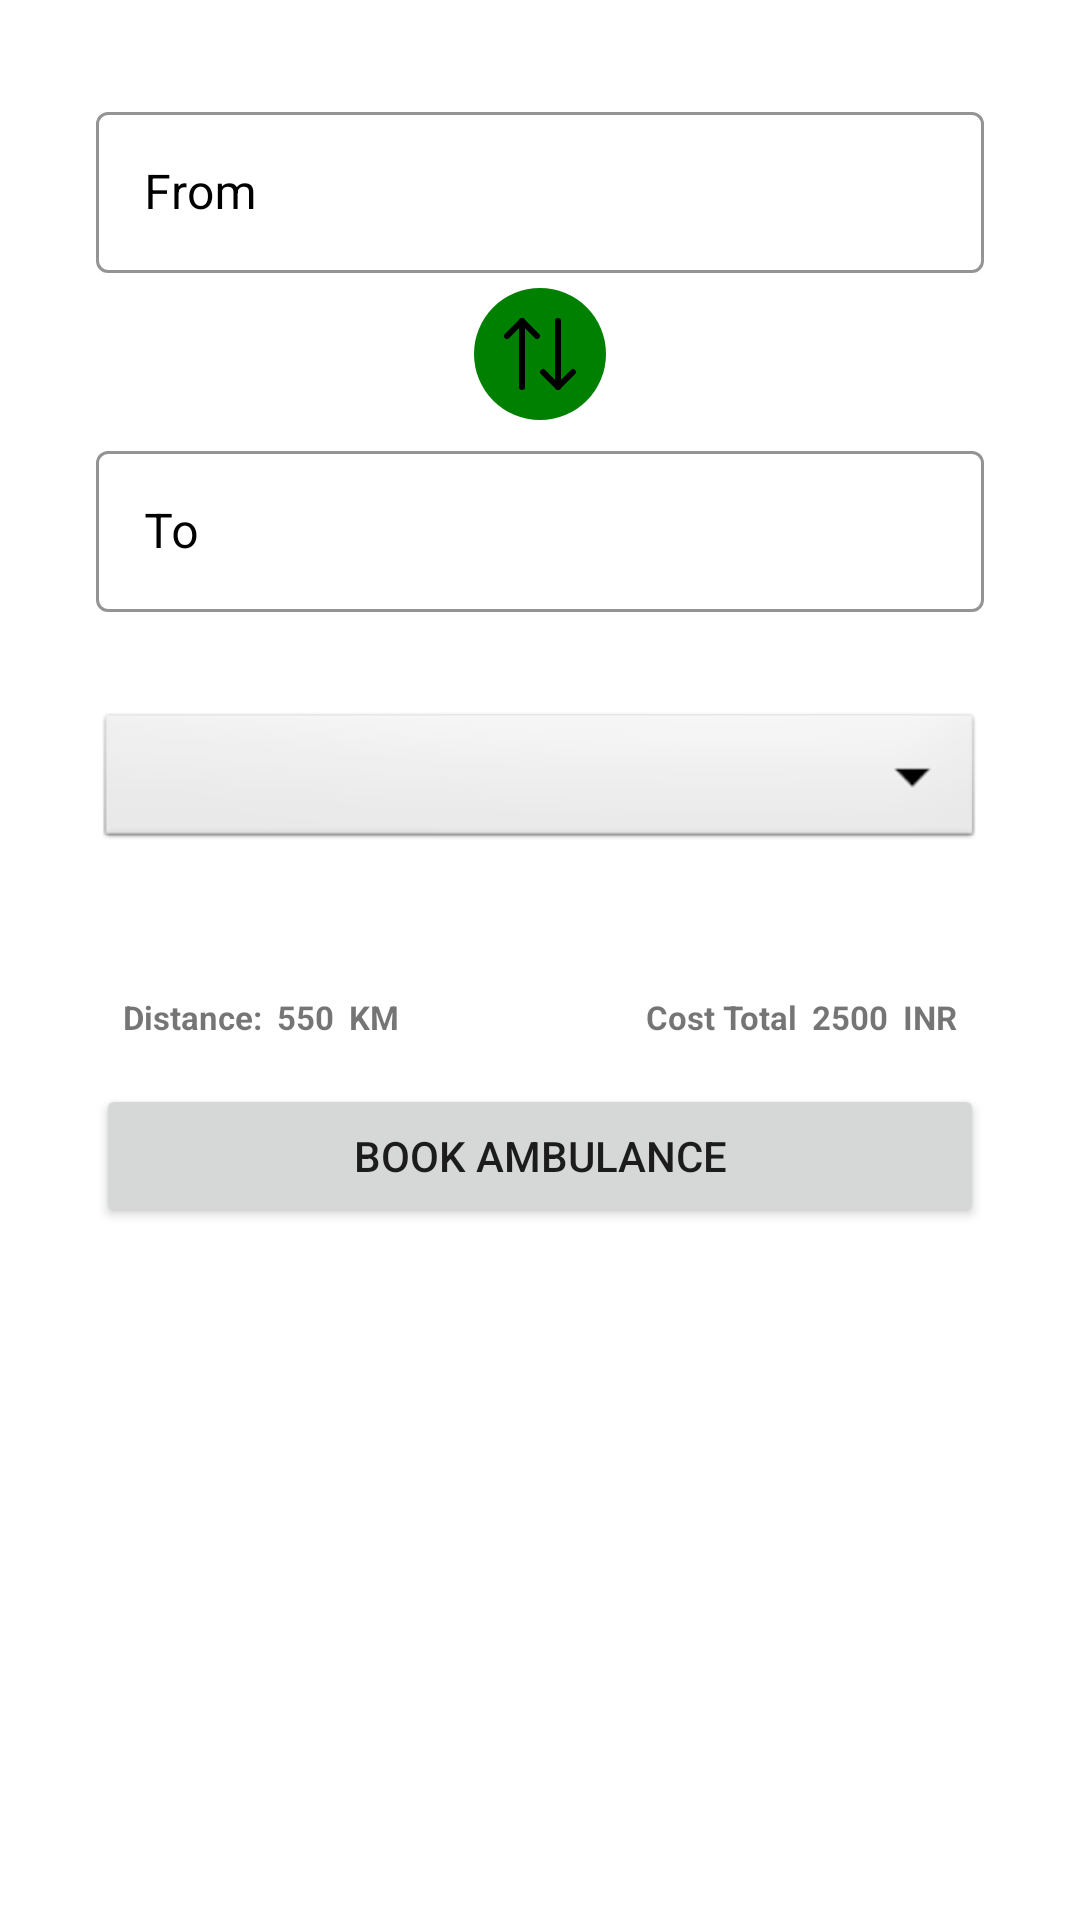

Where icons sit on this 1080*1920 app screen, as [x1=x1, y1=y1, x2=x2, y2=y2]:
arrow up down: [x1=474, y1=288, x2=606, y2=420]
